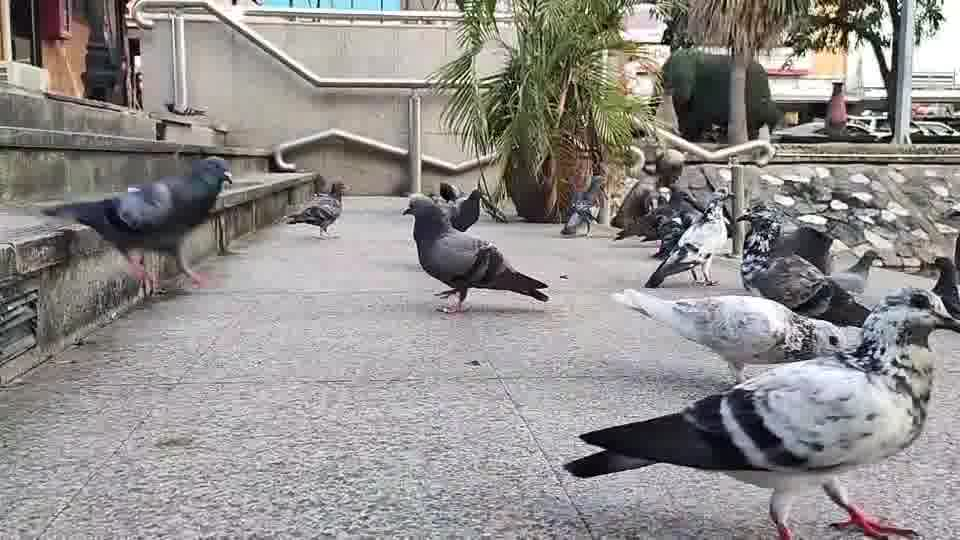Pigeon: (562, 284, 958, 539), (41, 155, 233, 297), (611, 286, 847, 384), (399, 194, 550, 313), (735, 203, 873, 326), (643, 189, 734, 288), (282, 180, 351, 239), (929, 254, 959, 318), (559, 199, 598, 238)
